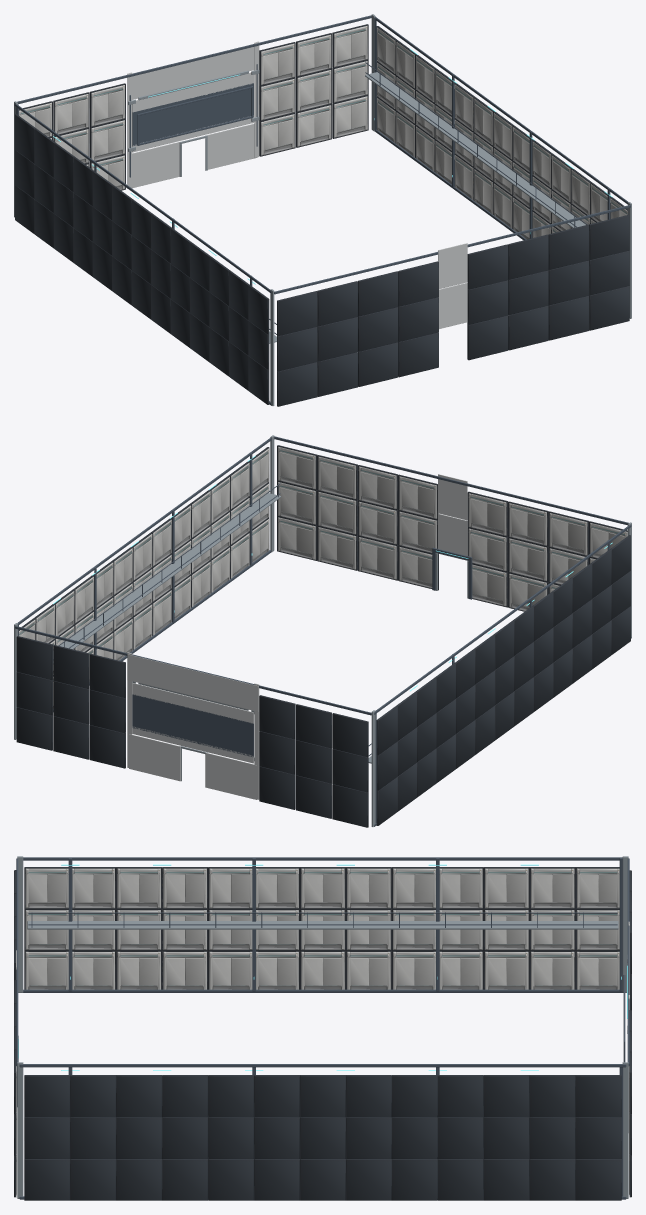
File: clinical_modular_perimeter.glb
3 views of the same model, one above another, from view 1: azimuth 30°, elevation 25°; view 2: azimuth 150°, elevation 25°; view 3: azimuth 270°, elevation 25° (orthographic). The views are drawn at different scales.
Parts seen in each view (by area): view 1: ClinicalCleanSouthWall, ClinicalCleanWestWall, ClinicalCleanFrameAndGallery, ClinicalCleanEastWall, ClinicalCleanNorthWall; view 2: ClinicalCleanSouthWall, ClinicalCleanFrameAndGallery, ClinicalCleanWestWall, ClinicalCleanNorthWall, ClinicalCleanEastWall; view 3: ClinicalCleanEastWall, ClinicalCleanWestWall, ClinicalCleanFrameAndGallery, ClinicalCleanSouthWall, ClinicalCleanNorthWall.
Boxes of the visible parts, <box> form: ClinicalCleanSouthWall: <box>277,214,629,406</box>; ClinicalCleanWestWall: <box>15,114,269,404</box>; ClinicalCleanFrameAndGallery: <box>14,14,631,405</box>; ClinicalCleanEastWall: <box>376,26,627,239</box>; ClinicalCleanNorthWall: <box>19,24,368,190</box>; ClinicalCleanSouthWall: <box>277,445,627,611</box>; ClinicalCleanFrameAndGallery: <box>14,435,631,826</box>; ClinicalCleanWestWall: <box>376,535,630,825</box>; ClinicalCleanNorthWall: <box>16,636,368,827</box>; ClinicalCleanEastWall: <box>19,447,269,708</box>; ClinicalCleanEastWall: <box>24,1075,621,1200</box>; ClinicalCleanWestWall: <box>24,867,619,989</box>; ClinicalCleanFrameAndGallery: <box>16,856,629,1199</box>; ClinicalCleanSouthWall: <box>14,870,16,1197</box>; ClinicalCleanNorthWall: <box>629,870,631,1197</box>.
Bounding box in the file's own units: 32.36 × 9.92 × 40.36.
Materials: 5 (1 with a texture image).
